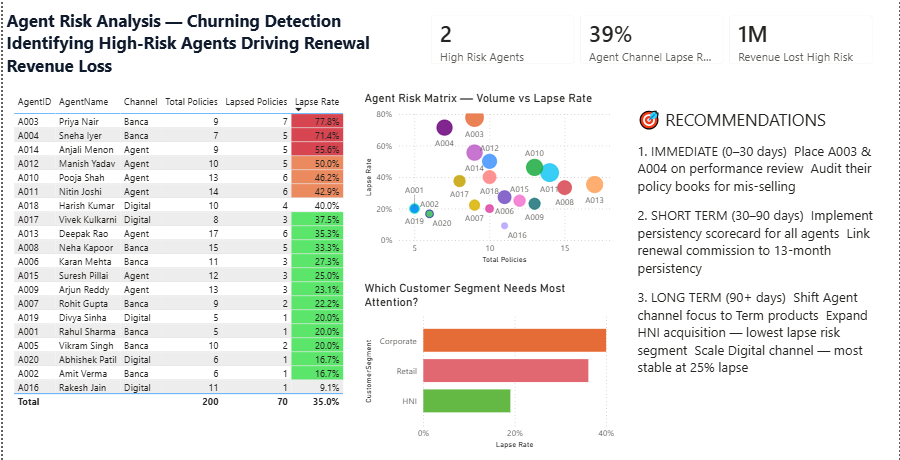

The page's visual inventory and layout, read from the dashboard file:
{"tool":"powerbi","page":{"name":"Page 2","canvas":[1280,720],"ordinal":1},"visuals":[{"type":"textbox","box":[0,57.6,550.1,122.4],"z":0},{"type":"cardVisual","fields":{"Data":["_Measures.High Risk Agents","_Measures.Agent Channel Lapse Rate","_Measures.Revenue Lost High Risk"]},"box":[594.7,60.5,662.4,93.6],"z":1000},{"type":"tableEx","fields":{"Values":["Agents.AgentID","Agents.AgentName","Agents.Channel","_Measures.Total Policies","_Measures.Lapsed Policies","_Measures.Lapse Rate"]},"box":[10.1,180,501.1,504],"z":2000},{"type":"scatterChart","title":"Agent Risk Matrix — Volume vs Lapse Rate","fields":{"X":["_Measures.Total Policies"],"Y":["_Measures.Lapse Rate"],"Size":["_Measures.Revenue Lost to Lapsation"],"Series":["Agents.AgentID"]},"box":[511.2,180,367.2,252],"z":3000},{"type":"clusteredBarChart","title":"Which Customer Segment Needs Most Attention?","fields":{"Category":["Customers.CustomerSegment"],"Y":["_Measures.Lapse Rate"]},"box":[511.2,450.7,367.2,244.8],"z":4000},{"type":"textbox","box":[901.4,198.7,367.2,457.9],"z":5000}]}

Visuals, with their boxes on the page's 1280x720 design canvas (x1, y1, x2, y2). These are canvas units, not pixel positions in the 900x460 screenshot, which may show the page scaled, cropped or inside an application window:
textbox: x1=0, y1=58, x2=550, y2=180
cardVisual - _Measures.High Risk Agents x _Measures.Agent Channel Lapse Rate: x1=595, y1=60, x2=1257, y2=154
tableEx - Agents.AgentID x Agents.AgentName: x1=10, y1=180, x2=511, y2=684
"Agent Risk Matrix — Volume vs Lapse Rate" scatterChart: x1=511, y1=180, x2=878, y2=432
"Which Customer Segment Needs Most Attention?" clusteredBarChart: x1=511, y1=451, x2=878, y2=696
textbox: x1=901, y1=199, x2=1269, y2=657
